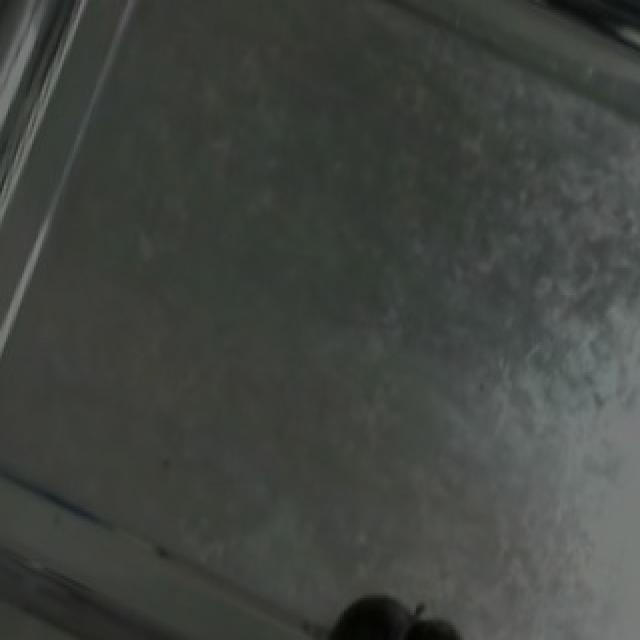Fruit: (310, 580, 486, 640), (534, 0, 640, 72)
